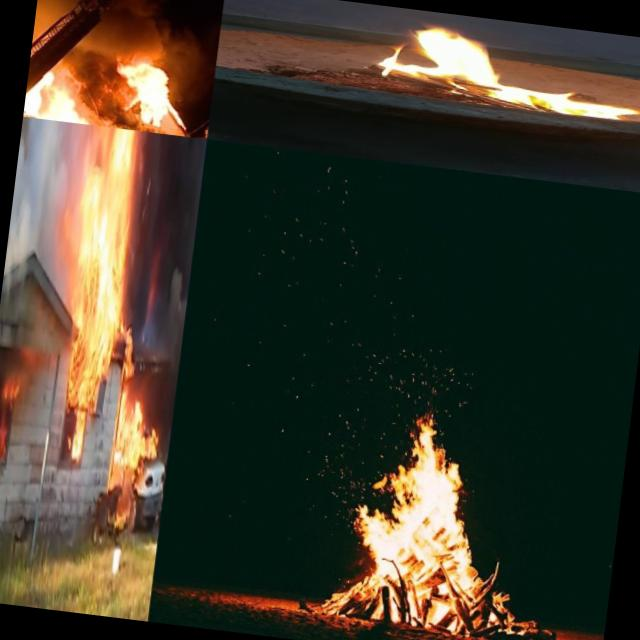fire: (329, 401, 506, 629), (356, 12, 637, 120), (62, 126, 142, 416), (105, 58, 177, 134), (23, 66, 100, 125), (110, 392, 164, 471), (0, 365, 21, 459), (116, 320, 138, 391), (68, 402, 90, 473)
smoke: (116, 132, 207, 310), (4, 116, 99, 280), (69, 0, 205, 92)
